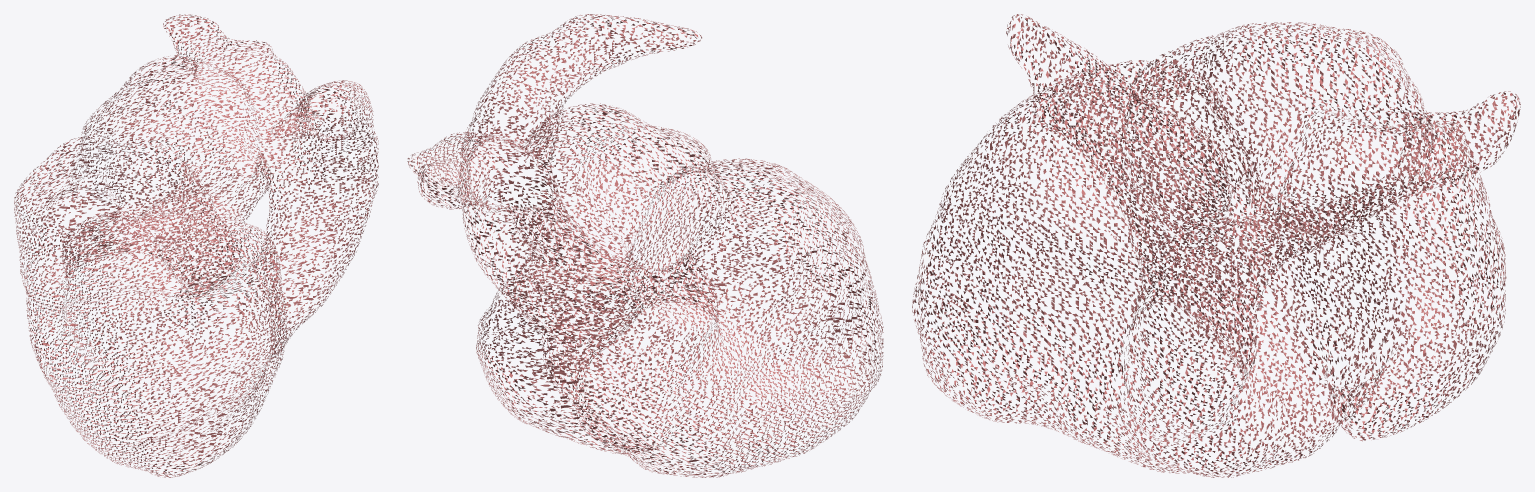
The model's file is heart.glb.
The picture shows the model from 3 angles, left to right: view 1: azimuth 30°, elevation 25°; view 2: azimuth 150°, elevation 25°; view 3: azimuth 270°, elevation 25°; orthographic projection. The views are drawn at different scales.
Size of the model in its own units: 126 by 124 by 136.
